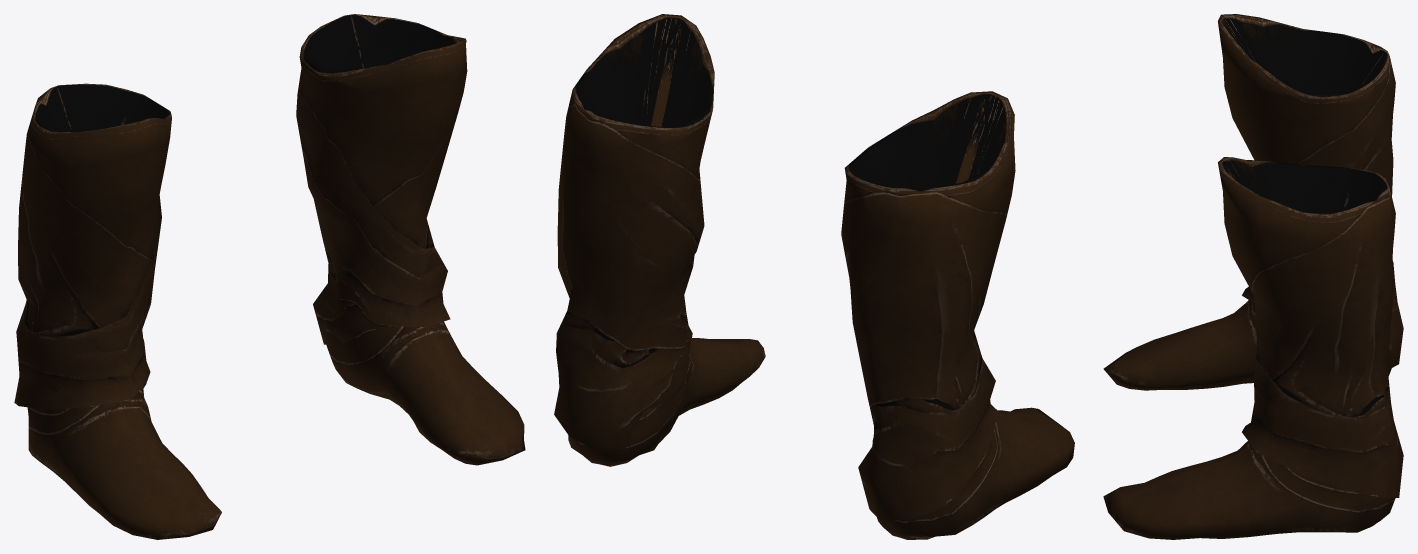
The model's file is rivendell_boots_leather1.fbx.
3 views of the same model, side by side, from view 1: azimuth 30°, elevation 25°; view 2: azimuth 150°, elevation 25°; view 3: azimuth 270°, elevation 25° (orthographic). The views are drawn at different scales.
Parts seen in each view (by area): view 1: rivendell_boots_leather1.1, rivendell_boots_leather1.0; view 2: rivendell_boots_leather1.1, rivendell_boots_leather1.0; view 3: rivendell_boots_leather1.1, rivendell_boots_leather1.0.
Part boxes in pixels (x1,y1,x2,y2): rivendell_boots_leather1.1: (14, 14, 467, 409); rivendell_boots_leather1.0: (27, 293, 525, 539); rivendell_boots_leather1.1: (554, 14, 1015, 520); rivendell_boots_leather1.0: (568, 338, 1074, 539); rivendell_boots_leather1.1: (1218, 14, 1403, 497); rivendell_boots_leather1.0: (1103, 300, 1399, 539).
Size of the model in its own units: 0.4503 by 0.3039 by 0.4015.
Materials: 2 (2 with a texture image).
